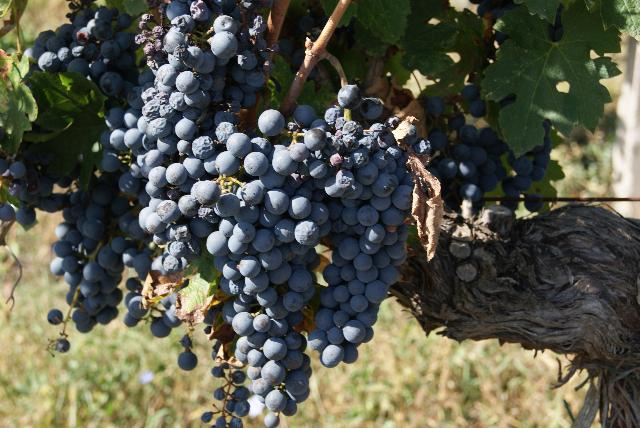grapes: (191, 132, 329, 419), (304, 105, 414, 365)
